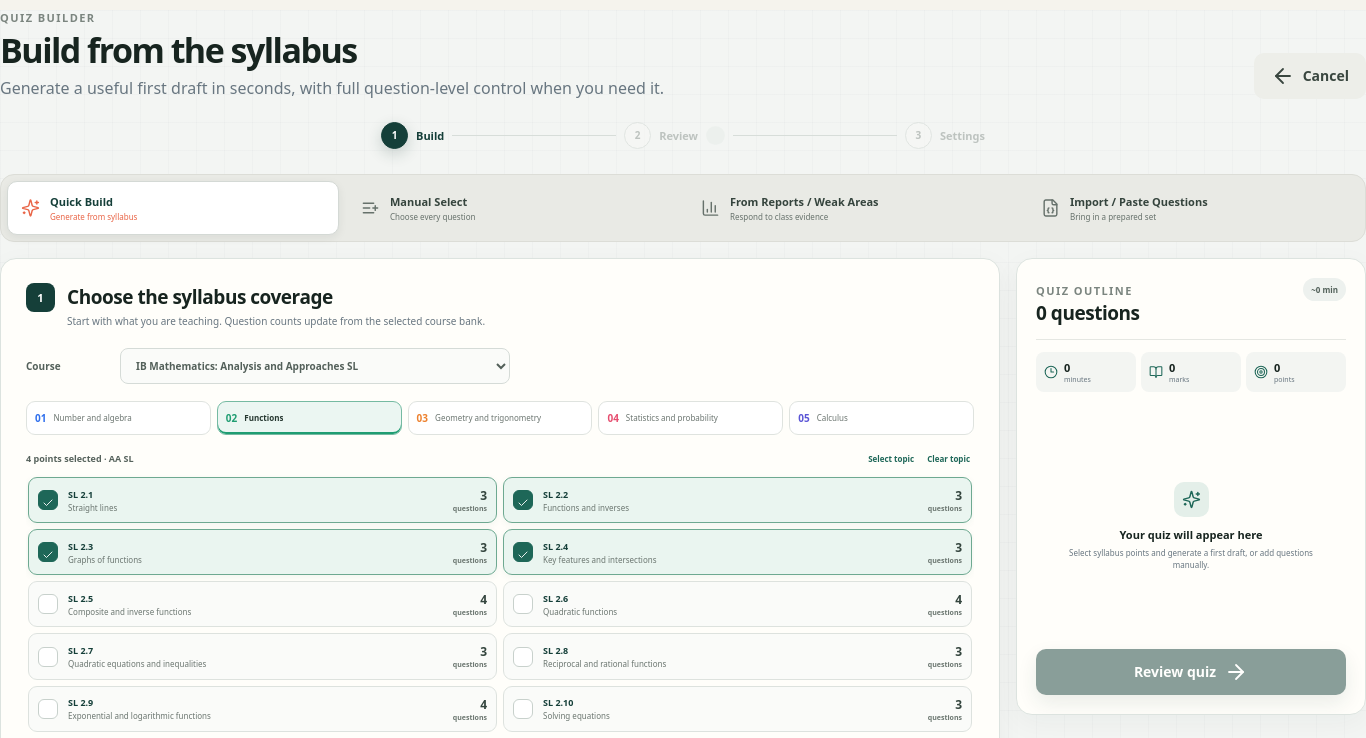
quiz builder course selection › shows all AA/AI course choices and swaps the syllabus bank
This screenshot has width=1366, height=738.
Check: the text "Composite and inverse functions" is shown, box [68,606,191,617]
Select "IB Mathematics: Applications and Interpretation SL" in the dropdown labelled "Course" at (315, 366), box [120,348,510,384]
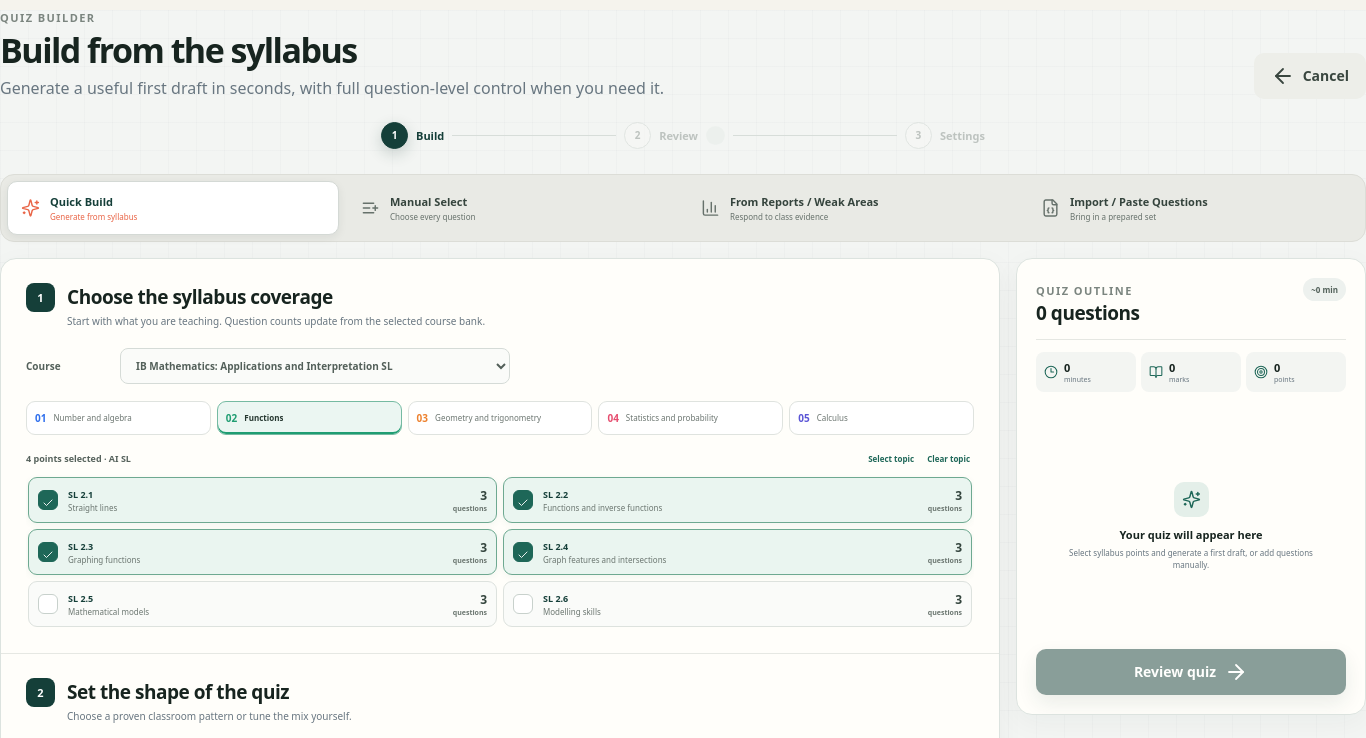
Check: the text "Mathematical models" is shown, box [68,606,149,617]
Check: the button "Composite and inverse functions" is gone
